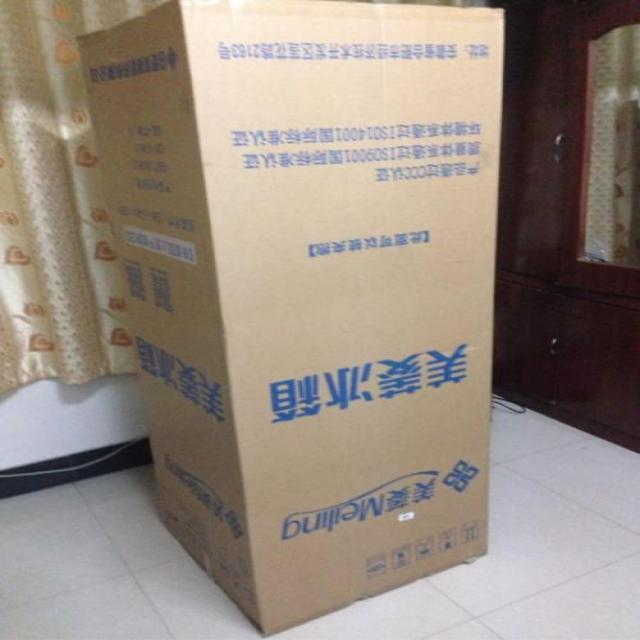cardboard: (83, 0, 492, 632)
